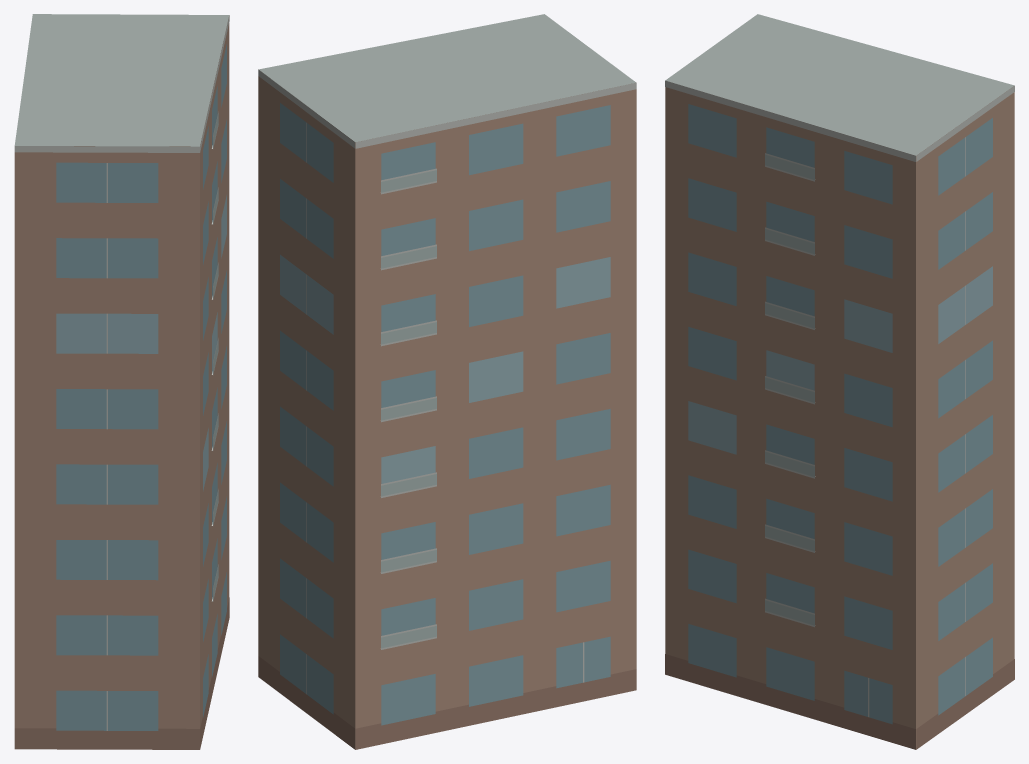
File: survey-upis-32746922.glb
The picture shows the model from 3 angles, left to right: view 1: azimuth 30°, elevation 25°; view 2: azimuth 150°, elevation 25°; view 3: azimuth 270°, elevation 25°; orthographic projection. The views are drawn at different scales.
Visible parts, largest first — view 1: survey-upis-32746922.tmp; view 2: survey-upis-32746922.tmp; view 3: survey-upis-32746922.tmp.
Part boxes in pixels (x1,y1,x2,y2): survey-upis-32746922.tmp: (14,14,229,749); survey-upis-32746922.tmp: (258,14,636,749); survey-upis-32746922.tmp: (665,14,1014,749).
Bounding box in the file's own units: 11.58 × 22.6 × 12.06.
